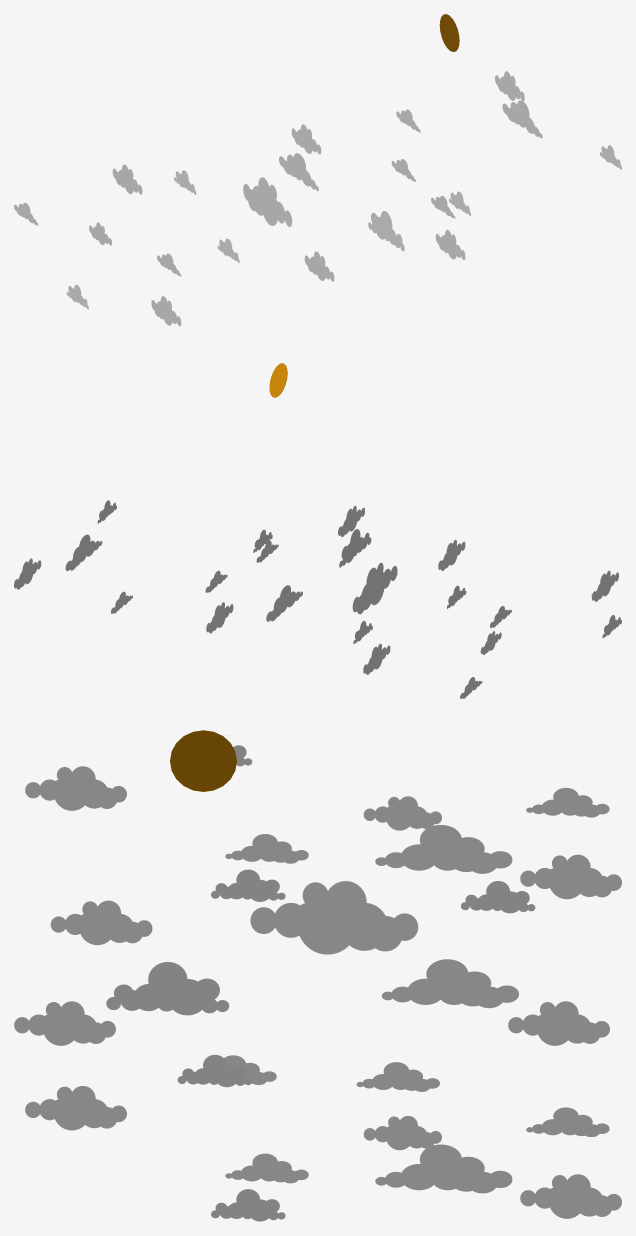
File: bp_scene_6_clouds.gltf
3 views of the same model, one above another, from view 1: azimuth 30°, elevation 25°; view 2: azimuth 150°, elevation 25°; view 3: azimuth 270°, elevation 25° (orthographic). The views are drawn at different scales.
Visible parts, largest first — view 1: pPlaneShape9, pPlaneShape8, pPlaneShape30, pPlaneShape10, pCylinderShape190, pPlaneShape22, pPlaneShape18, pPlaneShape17, pPlaneShape28, pPlaneShape12, pPlaneShape15; view 2: pPlaneShape9, pPlaneShape8, pPlaneShape10, pPlaneShape30, pCylinderShape190; view 3: pPlaneShape9, pPlaneShape8, pPlaneShape10, pPlaneShape30, pPlaneShape23, pCylinderShape190, pPlaneShape28, pPlaneShape15, pPlaneShape22, pPlaneShape18, pPlaneShape12, pPlaneShape31 (+12 smaller).
Boxes of the visible parts, <box> form: pPlaneShape9: <box>243,177,292,226</box>; pPlaneShape8: <box>368,211,404,251</box>; pPlaneShape30: <box>502,100,542,138</box>; pPlaneShape10: <box>279,153,318,191</box>; pCylinderShape190: <box>439,14,459,51</box>; pPlaneShape22: <box>151,296,181,326</box>; pPlaneShape18: <box>304,251,334,281</box>; pPlaneShape17: <box>112,164,142,194</box>; pPlaneShape28: <box>495,71,524,101</box>; pPlaneShape12: <box>435,229,465,259</box>; pPlaneShape15: <box>291,124,321,154</box>; pPlaneShape9: <box>352,562,397,614</box>; pPlaneShape8: <box>339,529,371,567</box>; pPlaneShape10: <box>266,585,302,621</box>; pPlaneShape30: <box>65,534,102,570</box>; pCylinderShape190: <box>269,363,287,397</box>; pPlaneShape9: <box>250,881,418,954</box>; pPlaneShape8: <box>106,962,229,1015</box>; pPlaneShape10: <box>382,959,518,1008</box>; pPlaneShape30: <box>375,1144,512,1193</box>; pPlaneShape23: <box>375,825,512,873</box>; pCylinderShape190: <box>170,730,236,791</box>; pPlaneShape28: <box>520,1174,621,1218</box>; pPlaneShape15: <box>508,1001,609,1045</box>; pPlaneShape22: <box>25,766,126,810</box>; pPlaneShape18: <box>50,900,152,945</box>; pPlaneShape12: <box>14,1001,115,1045</box>; pPlaneShape31: <box>25,1086,126,1130</box>.
Size of the model in its own units: 32.03 by 11.57 by 18.12.
Materials: 4 (3 with a texture image).
